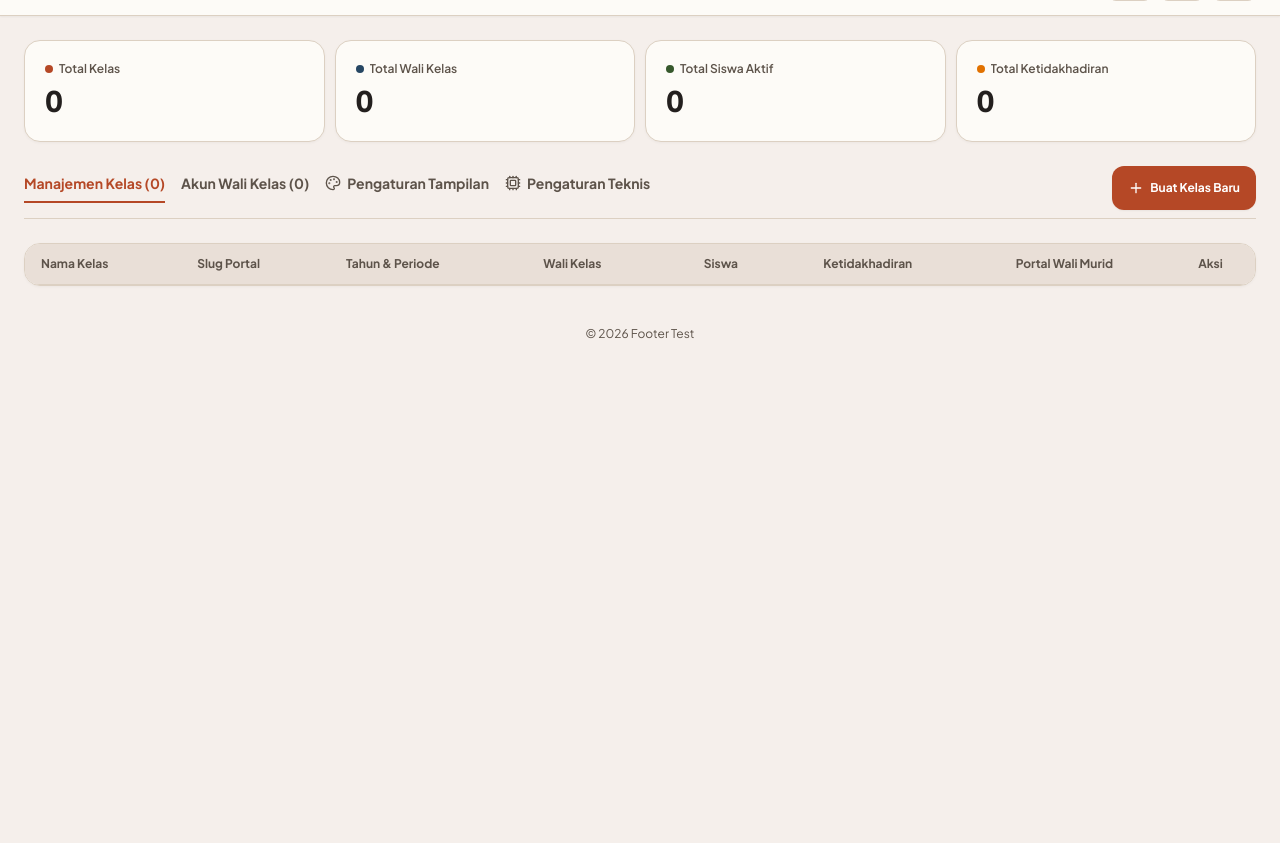
Test: Admin Password UI in Settings Tab › should check password matching realtime (mismatch vs match)
Click the button "Pengaturan Tampilan" at {"x": 407, "y": 188}, box [325,173,489,203]
(page scrolled)
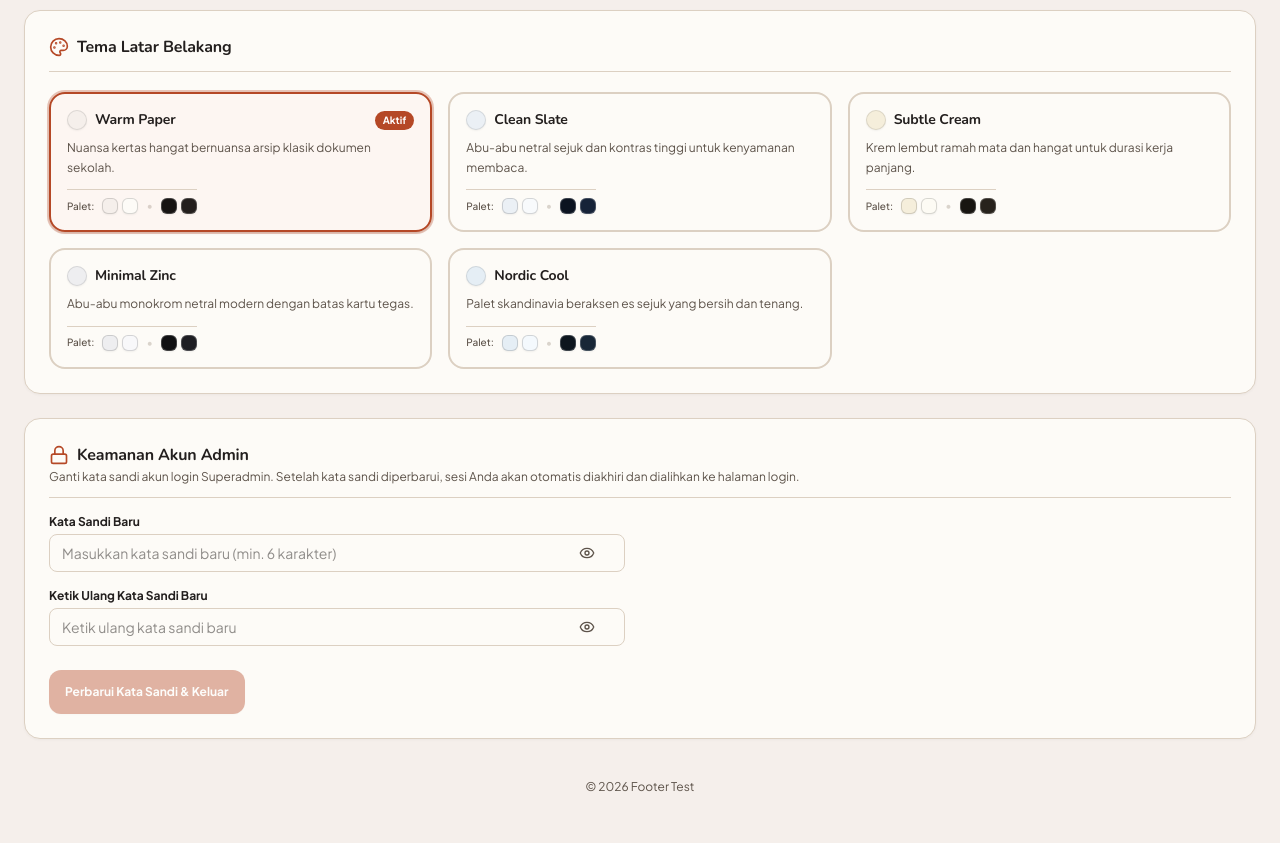
Type "passwordBaru123" into the password field labelled "Kata Sandi Baru" at {"x": 337, "y": 552}, box [49,534,625,572]
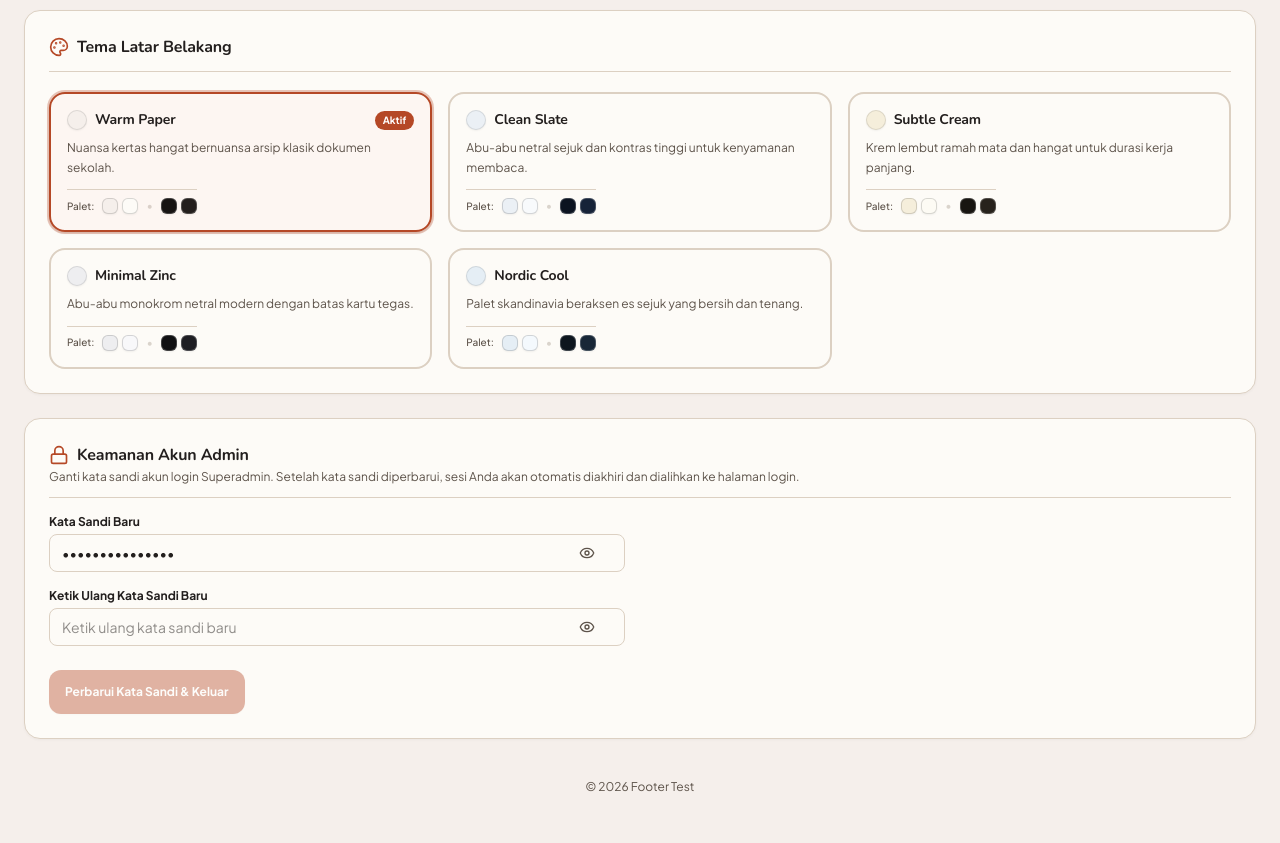
Type "passwordLain" into the password field labelled "Ketik Ulang Kata Sandi Baru" at {"x": 337, "y": 626}, box [49,608,625,646]
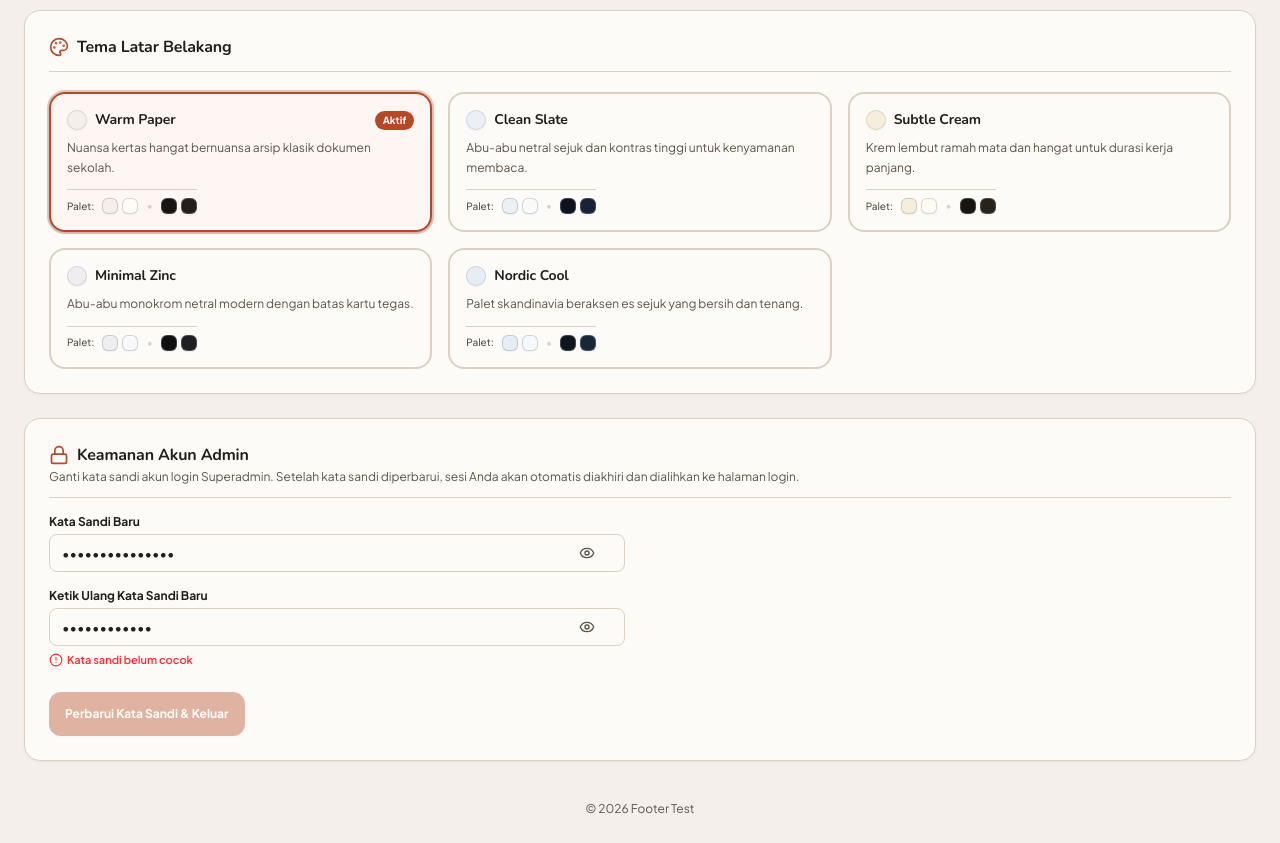
expect the button "Perbarui Kata Sandi & Keluar" is disabled: met, box [49,692,245,736]
expect the text "Kata sandi belum cocok" is shown: met, box [49,652,193,667]
Type "passwordBaru123" into the password field labelled "Ketik Ulang Kata Sandi Baru" at {"x": 337, "y": 626}, box [49,608,625,646]
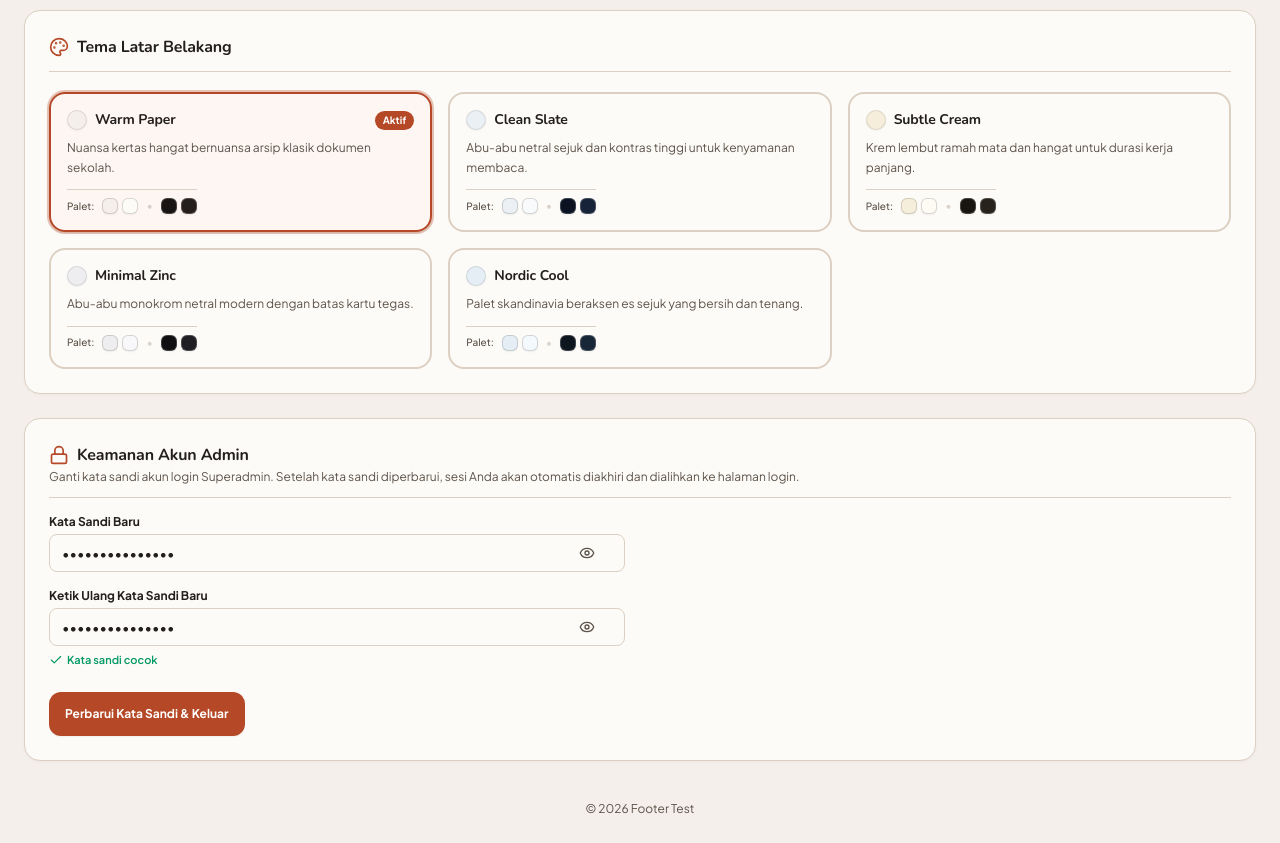
expect the text "Kata sandi cocok" is shown: met, box [49,652,158,667]
expect the button "Perbarui Kata Sandi & Keluar" is enabled: met, box [49,692,245,736]
